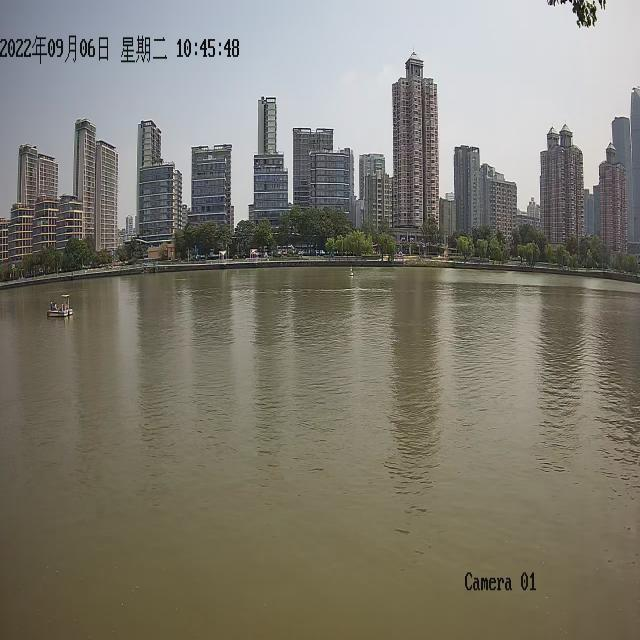ship: (46, 292, 72, 316)
